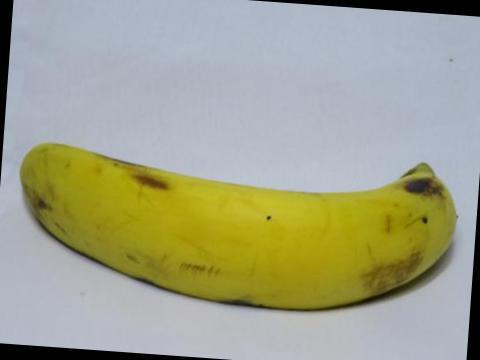freshripe: (9, 128, 468, 322)
